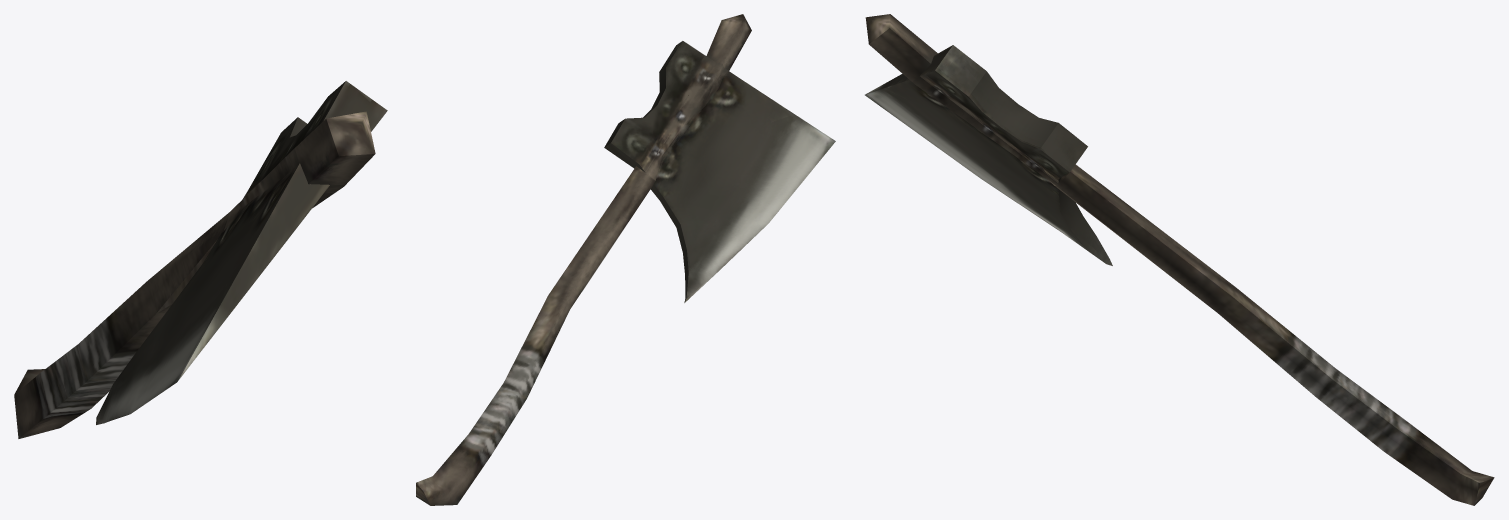
Rendered from axe.fbx.
The picture shows the model from 3 angles, left to right: view 1: azimuth 30°, elevation 25°; view 2: azimuth 150°, elevation 25°; view 3: azimuth 270°, elevation 25°; orthographic projection. The views are drawn at different scales.
Visible parts, largest first — view 1: axe; view 2: axe; view 3: axe.
Boxes of the visible parts, left/top/right/bottom form: axe: left=14, top=81, right=387, bottom=438; axe: left=416, top=14, right=835, bottom=505; axe: left=865, top=14, right=1494, bottom=505.
Size of the model in its own units: 71.72 by 126 by 164.
